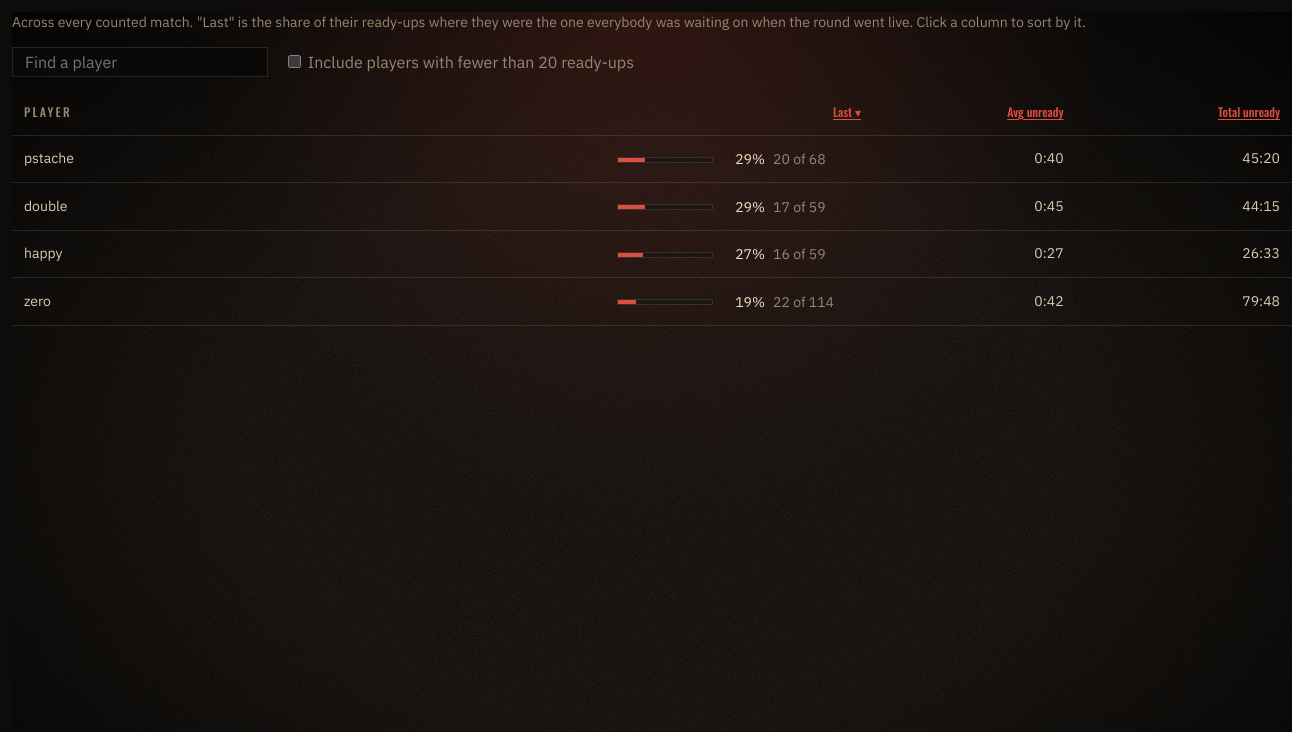
Test: SlowToReadyTable › leaves out players with too few ready-ups to mean anything, and can show them
Click the checkbox at (294, 62), box [288,55,301,68]
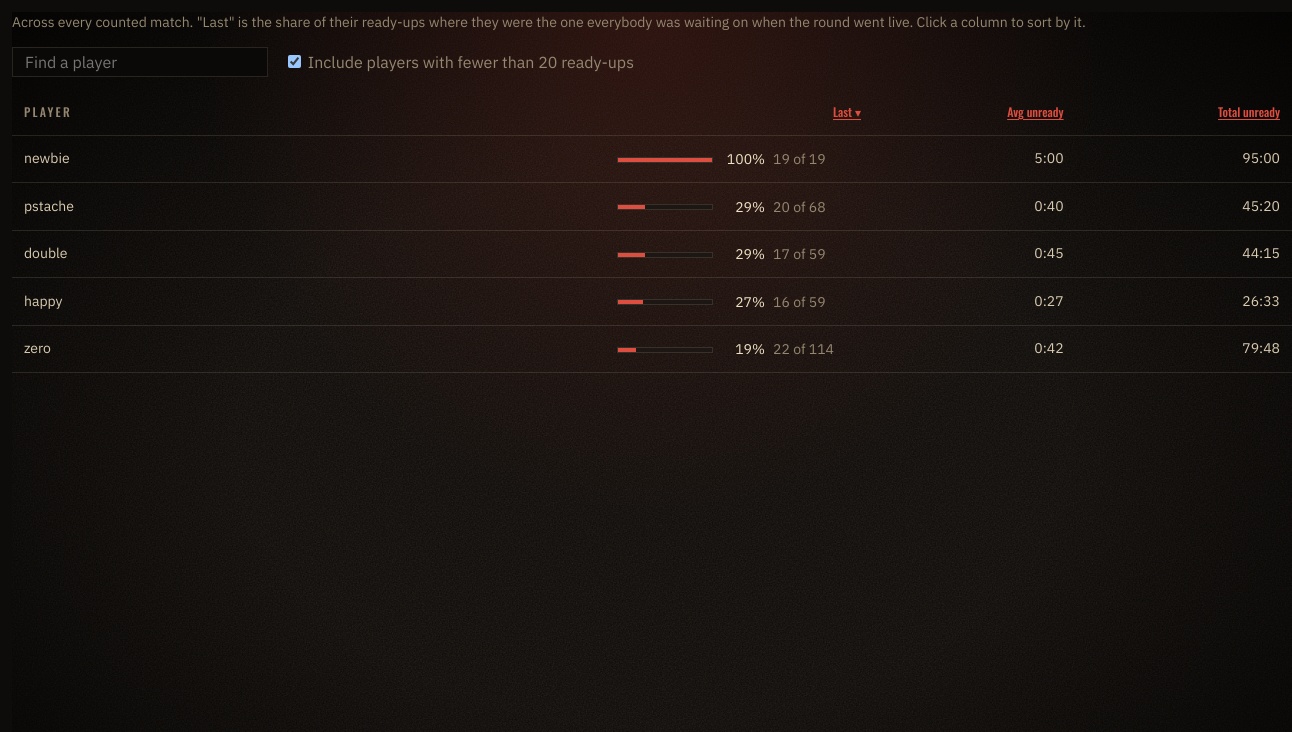
expect the link "newbie" is shown: met, box [24,149,70,167]
